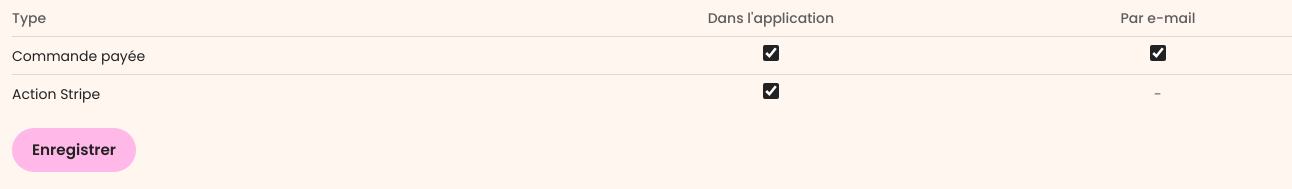
Scenario: préférences de notification › la confirmation disparaît dès qu'on modifie un réglage
Submit the form "Enregistrer"
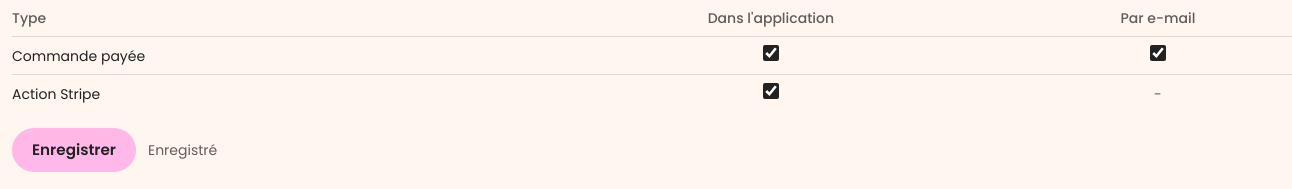
Expected: the message "Enregistré" is shown, left=148, top=140, right=217, bottom=160
Click the checkbox named "Action Stripe : Dans l'application". click: (771, 91)
box: left=763, top=83, right=779, bottom=99
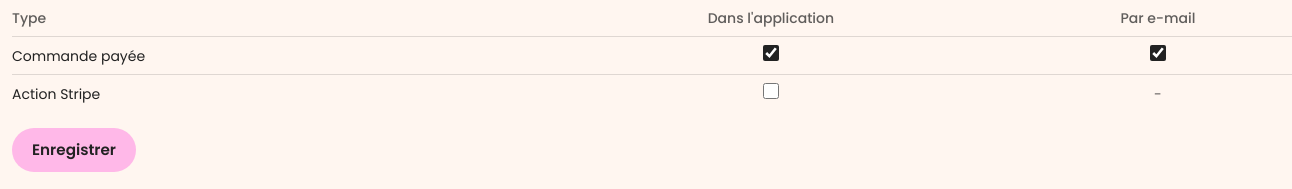
Expected: the message "Enregistré" is gone
